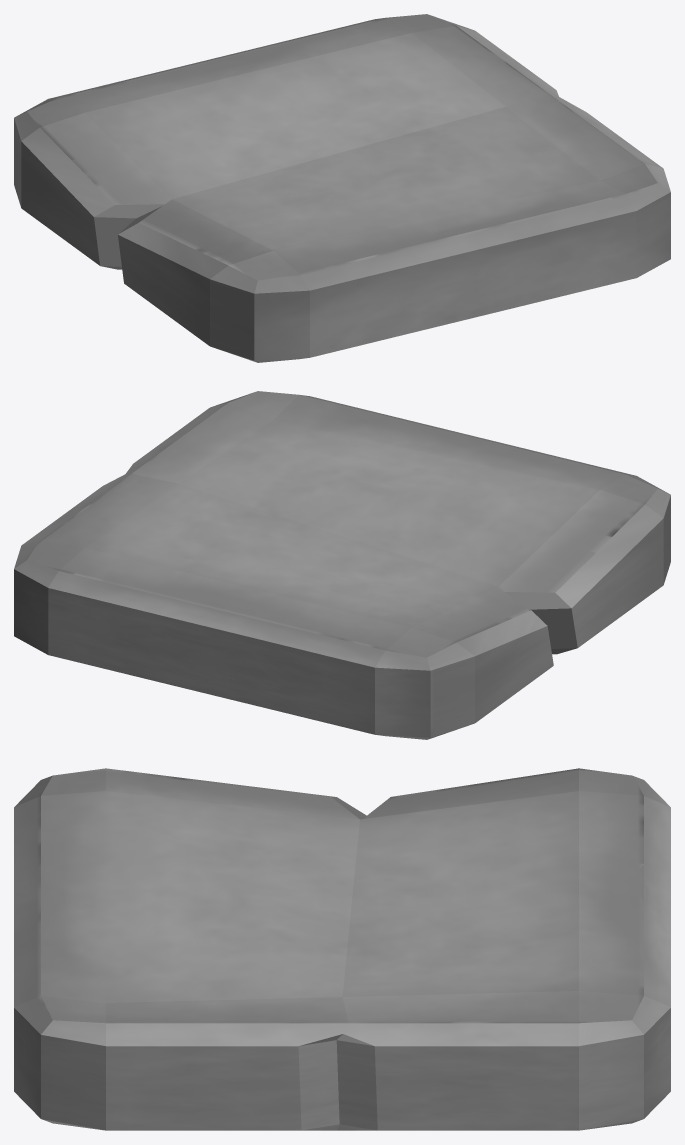
File: SteppingStone-1.glb
3 renders of one model, top to bottom at view 1: azimuth 30°, elevation 25°; view 2: azimuth 150°, elevation 25°; view 3: azimuth 270°, elevation 25°, orthographic. The views are drawn at different scales.
Parts seen in each view (by area): view 1: SteppingStone-1-col; view 2: SteppingStone-1-col; view 3: SteppingStone-1-col.
Boxes of the visible parts, bbox=[...] form: SteppingStone-1-col: bbox=[14, 14, 670, 362]; SteppingStone-1-col: bbox=[14, 391, 670, 739]; SteppingStone-1-col: bbox=[14, 768, 670, 1130].
Bounding box in the file's own units: 0.3357 × 0.066 × 0.3357.
1 material, 1 textured.
